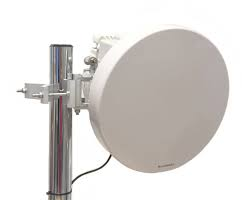ba: (74, 14, 236, 188)
